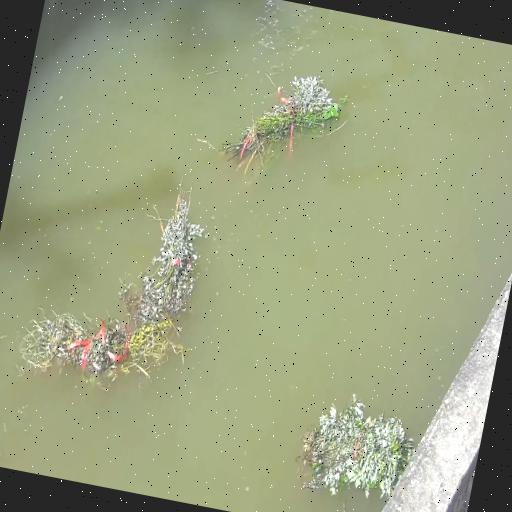twig: (0, 231, 203, 485), (208, 56, 351, 189), (289, 383, 422, 512), (125, 176, 216, 332)
